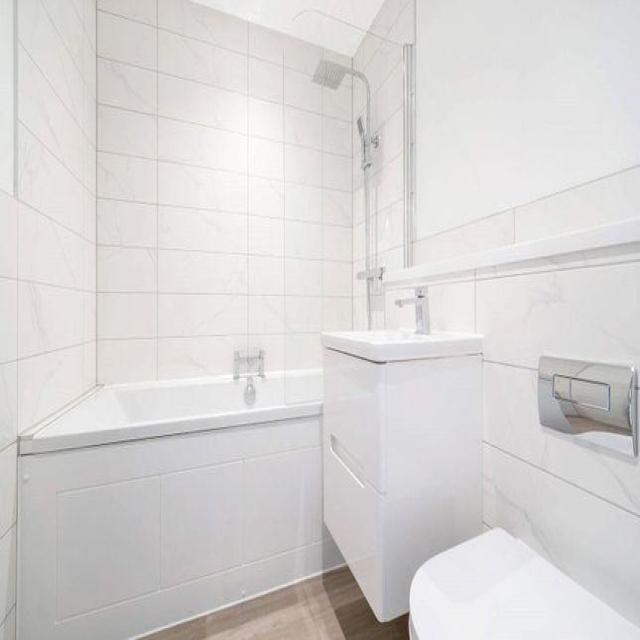Wall: (0, 1, 360, 637), (431, 245, 640, 620), (354, 1, 640, 271), (145, 566, 407, 640), (195, 0, 383, 55)
